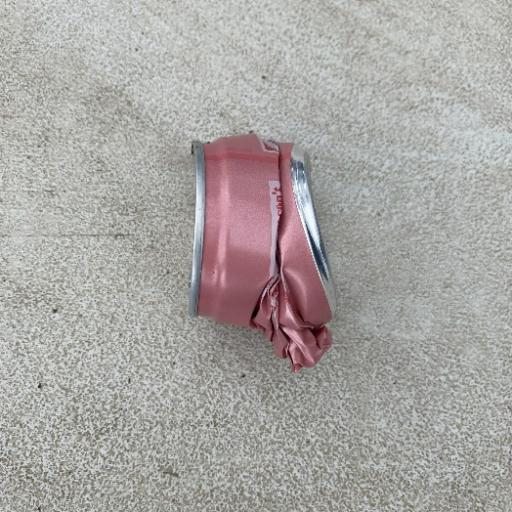Metal: (186, 131, 337, 373)
